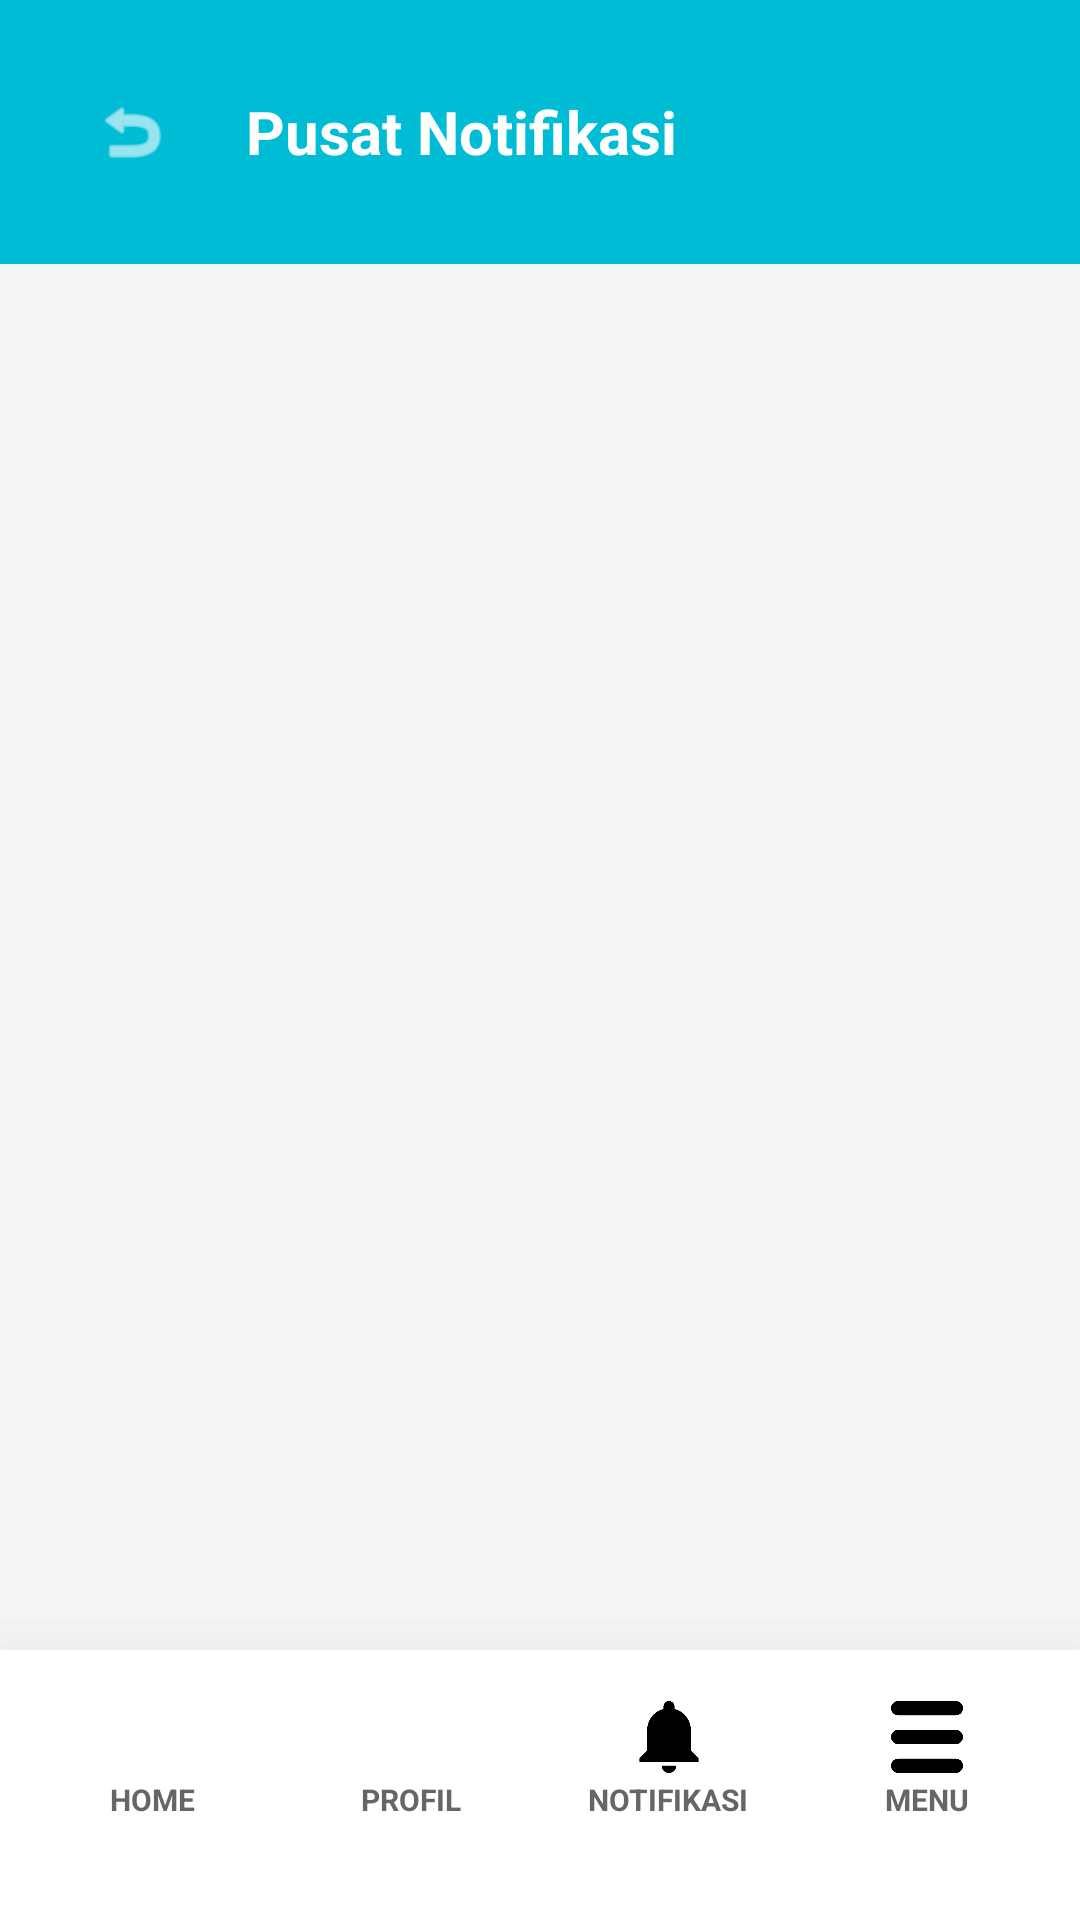

Point at icon controls on the screen. Image size 1080×1920, points as [x,y].
revert: [133,132]
